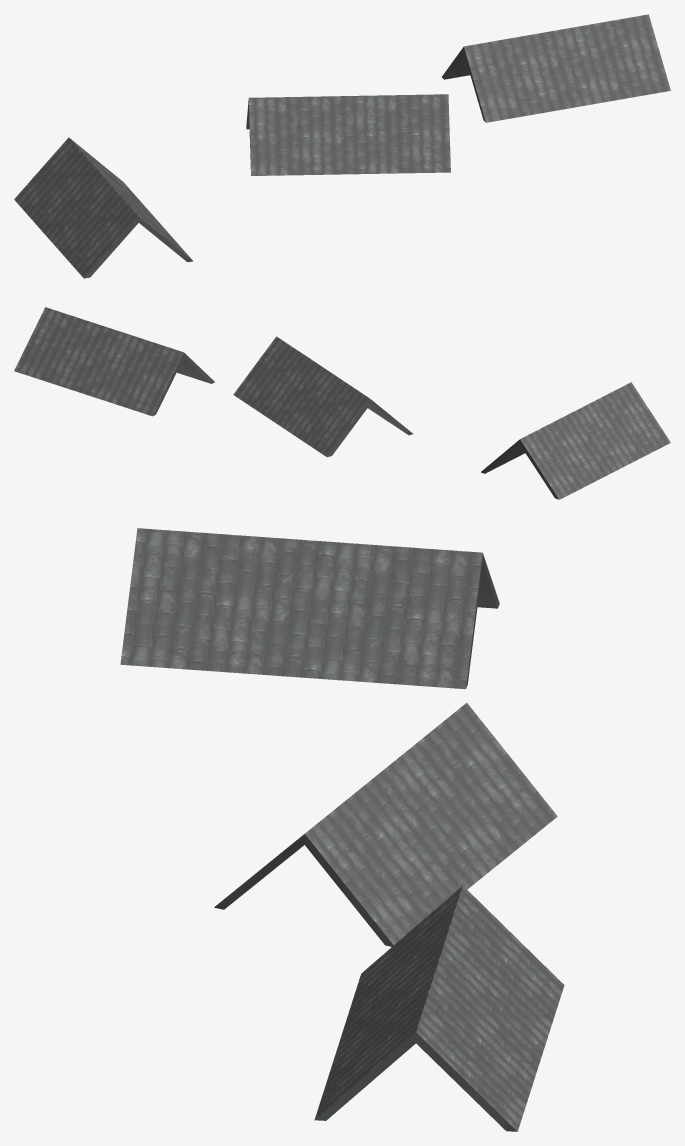
The model's file is BattleBoxRoofs.fbx.
3 renders of one model, top to bottom at view 1: azimuth 30°, elevation 25°; view 2: azimuth 150°, elevation 25°; view 3: azimuth 270°, elevation 25°, orthographic. The views are drawn at different scales.
Parts seen in each view (by area): view 1: Cube.025, Cube.027, Cube.018; view 2: Cube.027, Cube.018, Cube.025; view 3: Cube.018, Cube.027, Cube.025.
Boxes of the visible parts, left/top/right/bottom form: Cube.025: left=246, top=94, right=450, bottom=175; Cube.027: left=442, top=14, right=670, bottom=122; Cube.018: left=14, top=137, right=192, bottom=278; Cube.027: left=14, top=307, right=214, bottom=416; Cube.018: left=481, top=382, right=670, bottom=499; Cube.025: left=233, top=336, right=412, bottom=457; Cube.018: left=120, top=528, right=499, bottom=689; Cube.027: left=314, top=885, right=564, bottom=1131; Cube.025: left=214, top=703, right=557, bottom=946.
Bounding box in the file's own units: 6.54 × 1.53 × 19.26.
